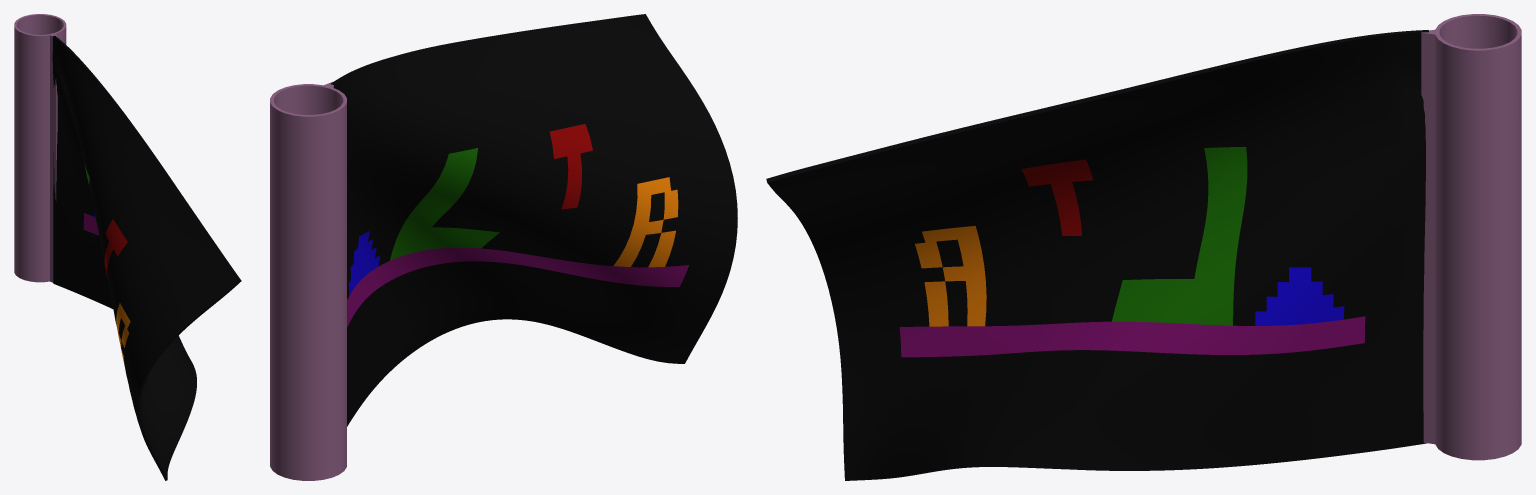
The model's file is Flag_Cloth.FBX.
3 renders of one model, left to right at view 1: azimuth 30°, elevation 25°; view 2: azimuth 150°, elevation 25°; view 3: azimuth 270°, elevation 25°, orthographic. The views are drawn at different scales.
Visible parts, largest first — view 1: Plane001, Flag Wrap; view 2: Plane001, Flag Wrap; view 3: Plane001, Flag Wrap.
Boxes of the visible parts, left/top/right/bottom form: Plane001: left=52, top=35, right=241, bottom=480; Flag Wrap: left=14, top=14, right=66, bottom=282; Plane001: left=331, top=14, right=737, bottom=426; Flag Wrap: left=270, top=81, right=346, bottom=480; Plane001: left=766, top=30, right=1428, bottom=480; Flag Wrap: left=1421, top=14, right=1521, bottom=460.
Size of the model in its own units: 11.18 by 25.61 by 34.94.
